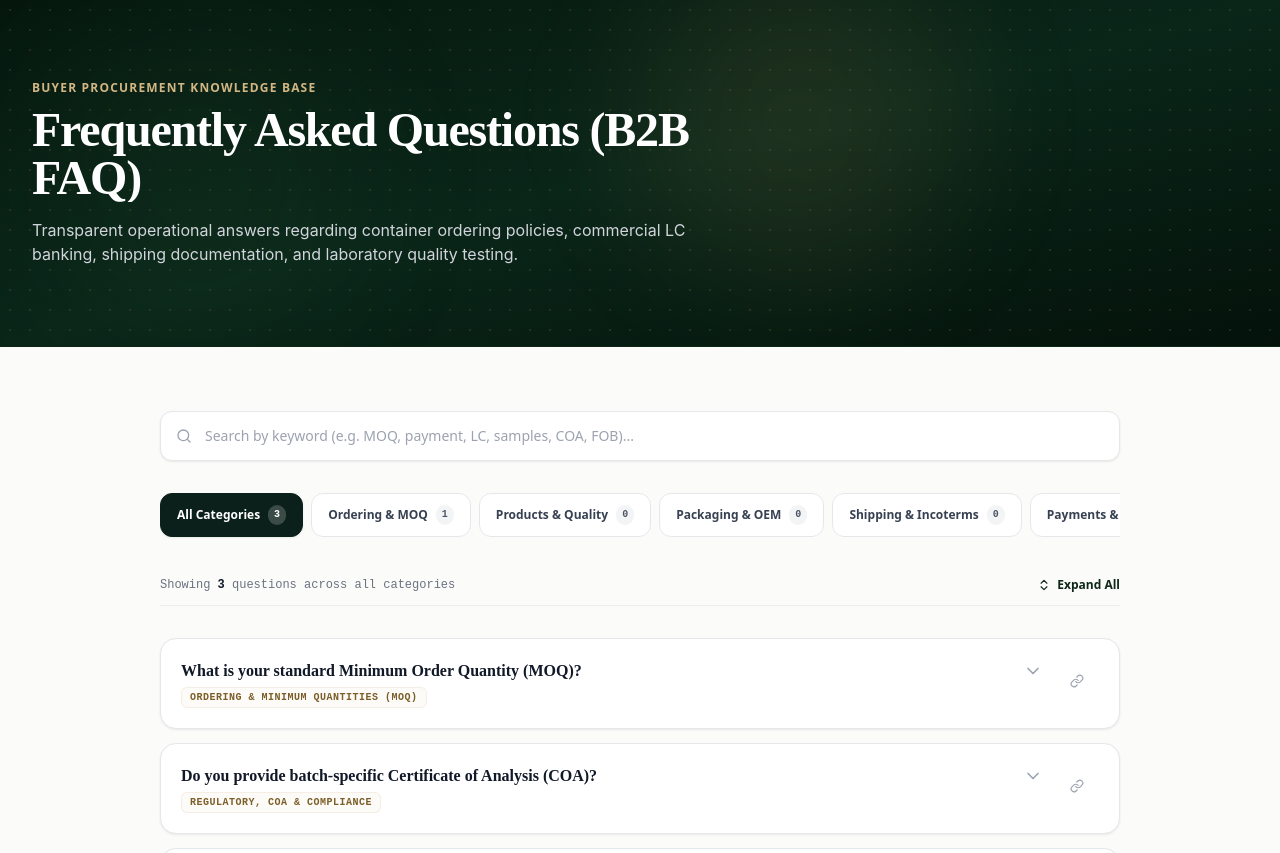
UI Component: FaqPage Suite › clears search when clear button is clicked
Replace the text in the field with placeholder "Search by keyword" with "Payment" at (640, 436), box [160,411,1120,461]
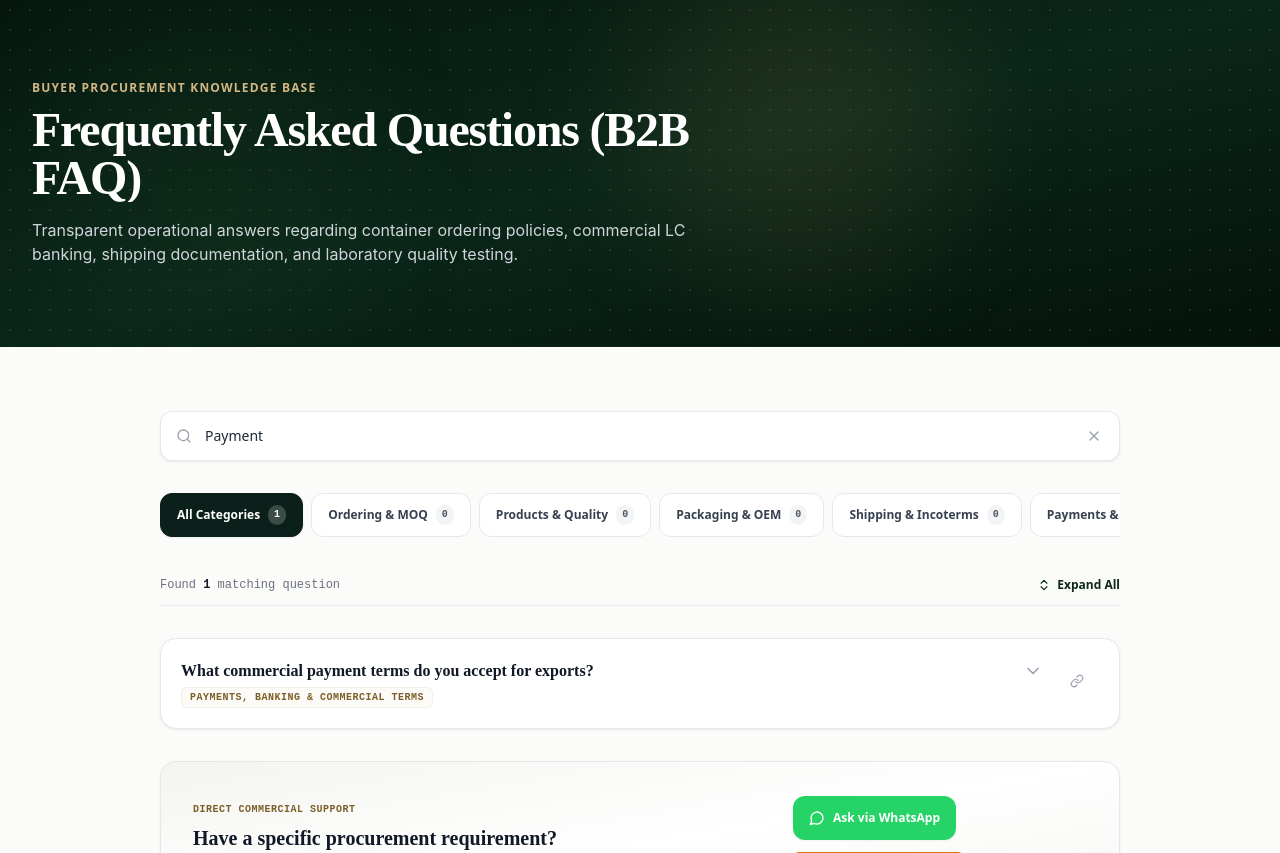
Expected: the text "What commercial payment terms do you accept for exports?" is shown, [181,659,594,683]
Result: the button "What is your standard Minimum Order Quantity (MOQ)?" is gone
Click the button named "Clear search query" at (1094, 436), box [1082,424,1106,448]
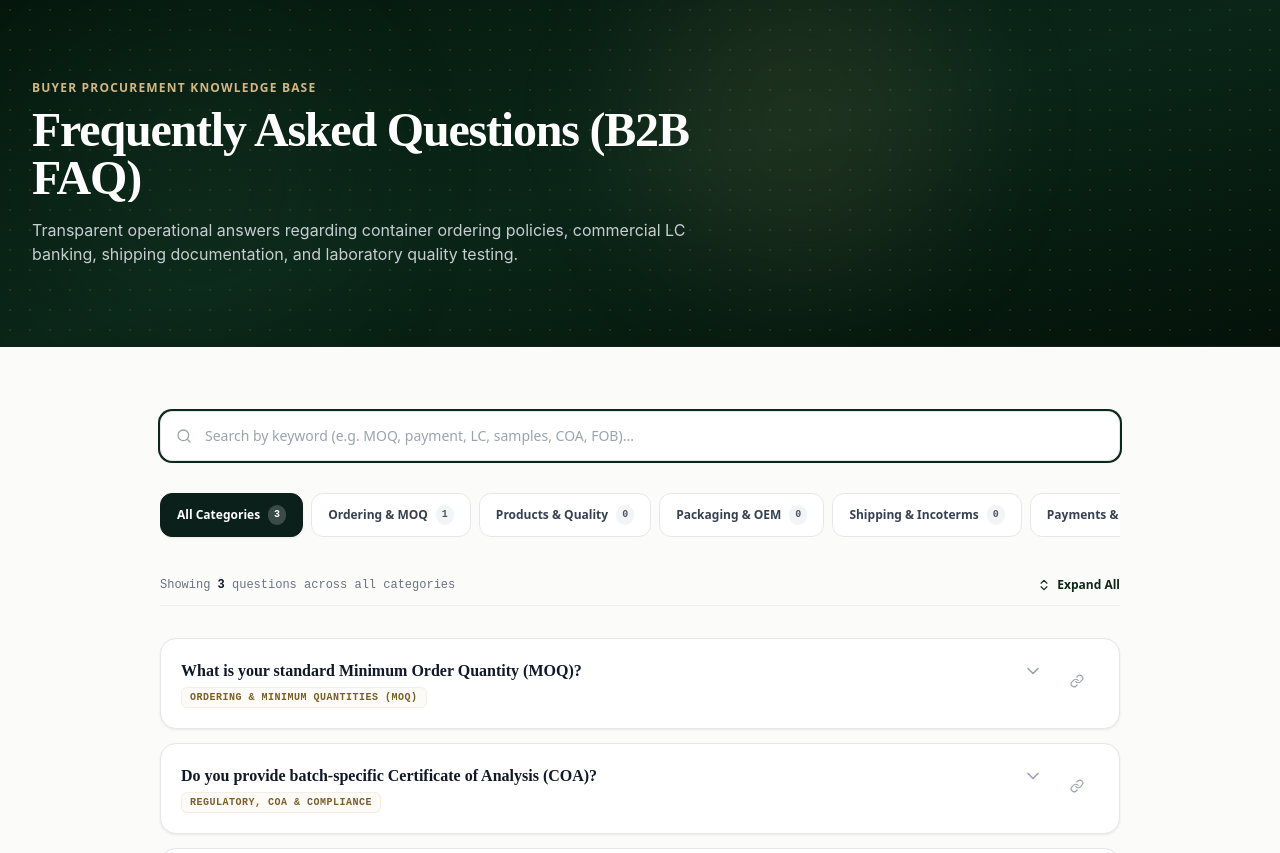
Result: the field with placeholder "Search by keyword" is empty at [160,411,1120,461]
Result: the text "What is your standard Minimum Order Quantity (MOQ)?" is shown at [181,659,582,683]
